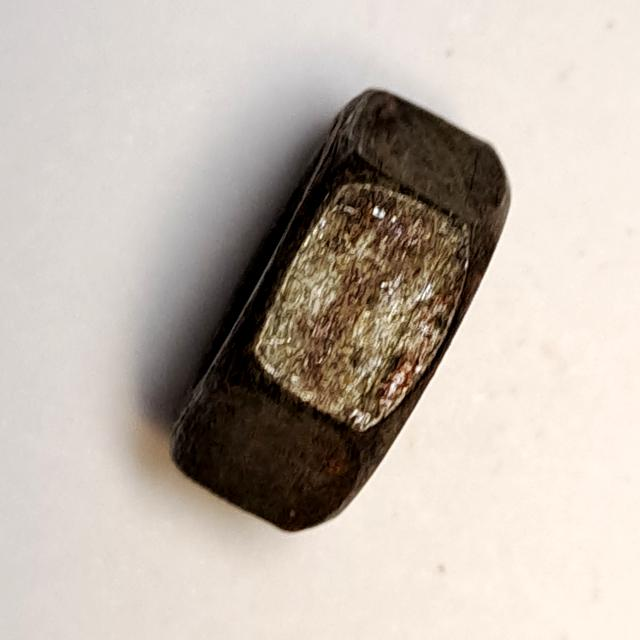Side_Rust: (151, 72, 524, 553)
